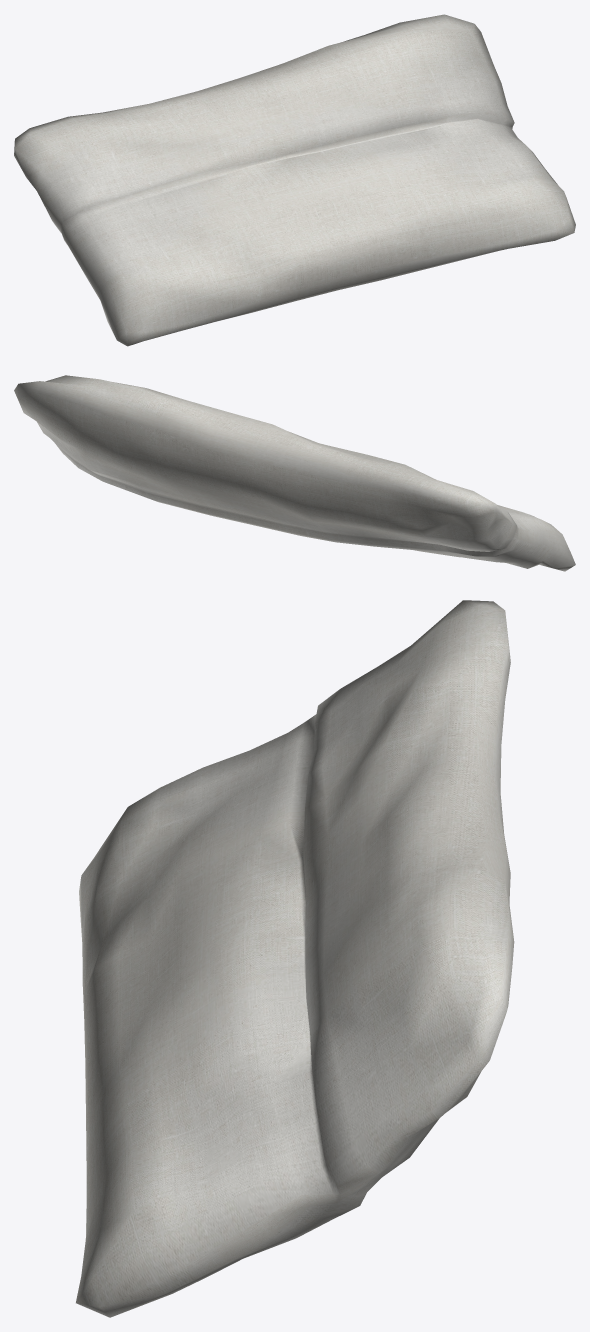
The model's file is Pillow 2.FBX.
3 renders of one model, top to bottom at view 1: azimuth 30°, elevation 25°; view 2: azimuth 150°, elevation 25°; view 3: azimuth 270°, elevation 25°, orthographic. The views are drawn at different scales.
Parts seen in each view (by area): view 1: Pillow 2; view 2: Pillow 2; view 3: Pillow 2.
Part boxes in pixels (<box>): Pillow 2: <box>14,14,575,346</box>; Pillow 2: <box>14,375,575,571</box>; Pillow 2: <box>76,600,514,1317</box>.
Size of the model in its own units: 67.83 by 22.4 by 27.08.
1 material, 1 textured.
